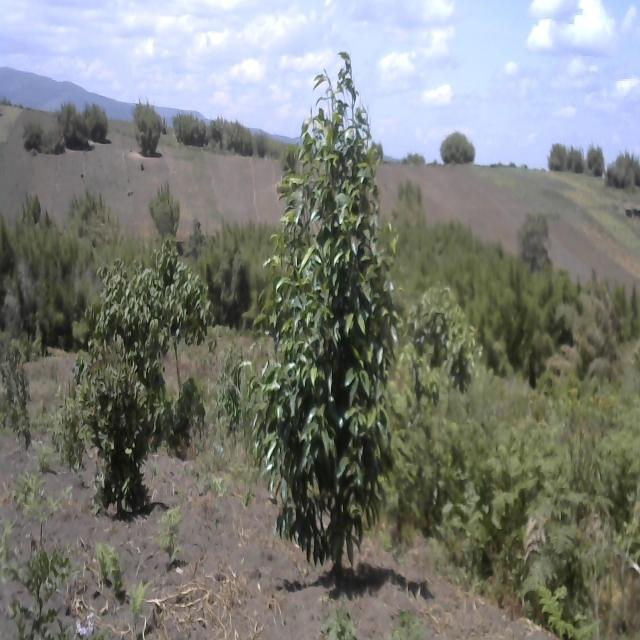Croton machrostychus: (98, 252, 214, 386)
Olea welwitchii: (269, 52, 397, 615)
Syzygium guinesis: (80, 330, 156, 498)
